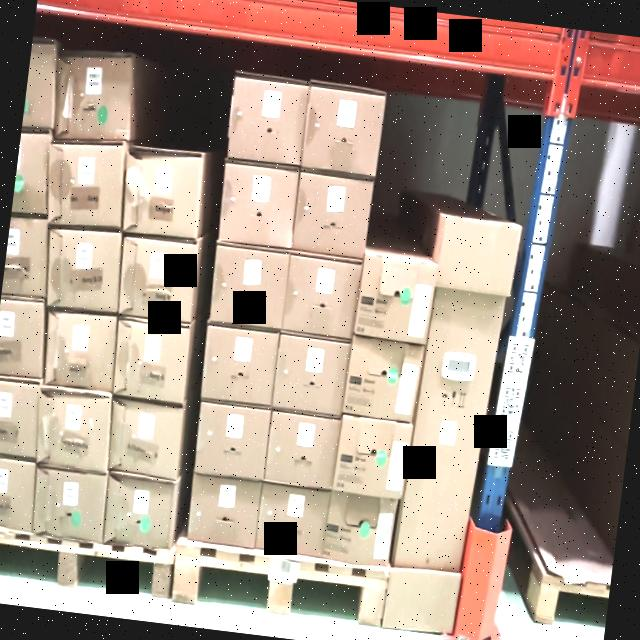box: (393, 217, 521, 571), (302, 84, 386, 177), (226, 74, 309, 164), (356, 253, 436, 342), (124, 147, 201, 239), (46, 138, 124, 228), (218, 164, 300, 246), (118, 239, 197, 323), (342, 339, 423, 420), (210, 242, 288, 326), (294, 174, 372, 256), (56, 54, 132, 138), (282, 256, 361, 336), (200, 326, 278, 406), (113, 320, 188, 403), (334, 416, 410, 497), (37, 390, 109, 474), (109, 399, 184, 479), (274, 335, 349, 414), (46, 232, 119, 313), (192, 404, 270, 479), (264, 413, 340, 488), (321, 492, 398, 566), (46, 311, 115, 392), (34, 469, 107, 543), (187, 474, 261, 546), (257, 482, 329, 554), (106, 476, 174, 549), (1, 217, 46, 298), (0, 298, 44, 378), (11, 131, 51, 214), (0, 379, 39, 462), (22, 39, 55, 128), (0, 458, 35, 533)
